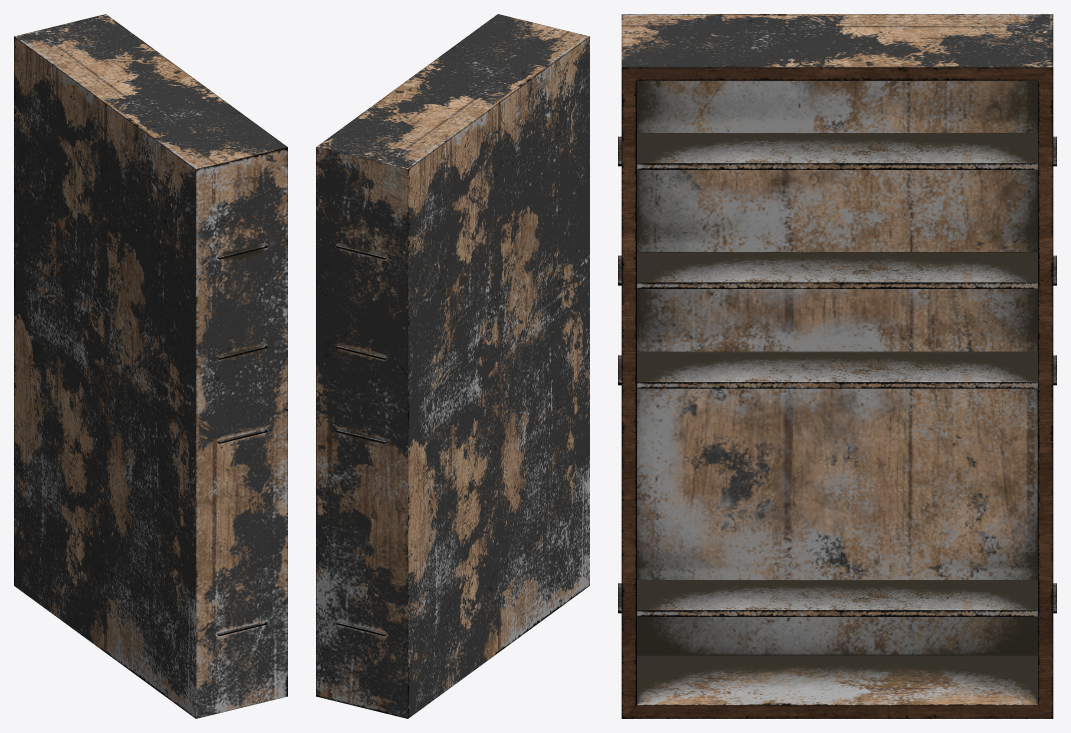
Rendered from box_wooden_closet_supplies.glb.
3 views of the same model, side by side, from view 1: azimuth 30°, elevation 25°; view 2: azimuth 150°, elevation 25°; view 3: azimuth 270°, elevation 25° (orthographic). The views are drawn at different scales.
Visible parts, largest first — view 1: Cube_1; view 2: Cube_1; view 3: Cube_1.
Boxes of the visible parts, <box> form: Cube_1: <box>14,14,287,718</box>; Cube_1: <box>316,14,589,718</box>; Cube_1: <box>618,14,1056,718</box>.
Size of the model in its own units: 0.35 by 2 by 1.22.
Materials: 1 (1 with a texture image).
